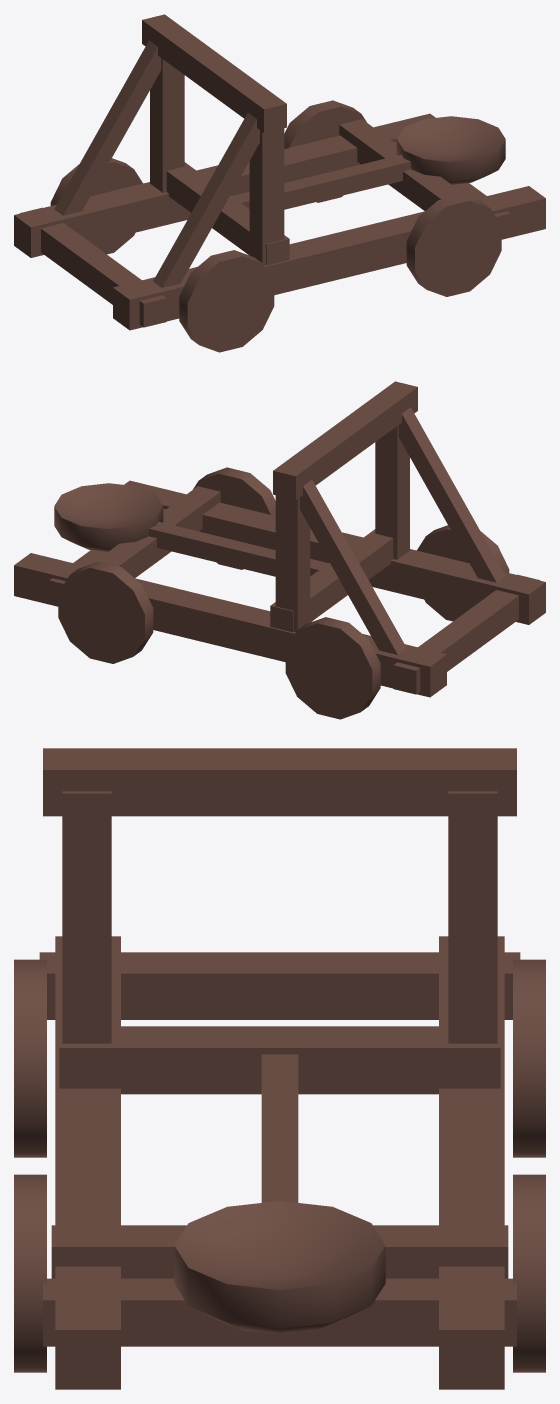
The model's file is Catapult_Greybox.fbx.
The picture shows the model from 3 angles, top to bottom: view 1: azimuth 30°, elevation 25°; view 2: azimuth 150°, elevation 25°; view 3: azimuth 270°, elevation 25°; orthographic projection. The views are drawn at different scales.
Visible parts, largest first — view 1: Catapult_Greybox; view 2: Catapult_Greybox; view 3: Catapult_Greybox.
Part boxes in pixels (x1=…): Catapult_Greybox: x1=14, y1=14, x2=545, y2=352; Catapult_Greybox: x1=14, y1=381, x2=545, y2=719; Catapult_Greybox: x1=14, y1=748, x2=545, y2=1389.
Size of the model in its own units: 50.98 by 25.7 by 28.39.
